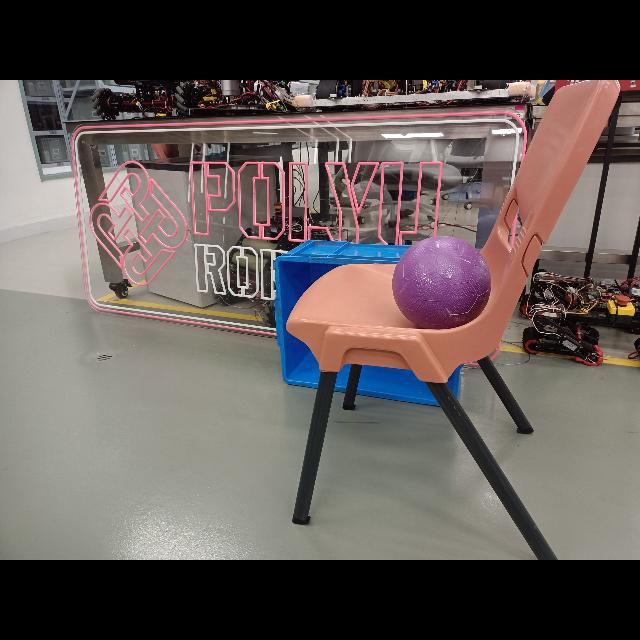P: (393, 235, 491, 328)
